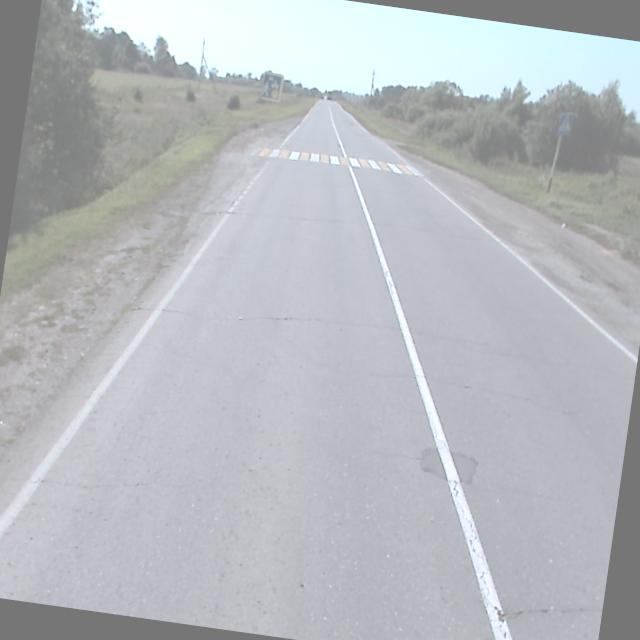road: (0, 100, 638, 640)
